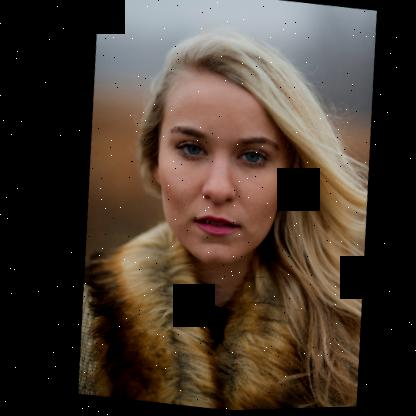Female: (128, 60, 306, 273)
